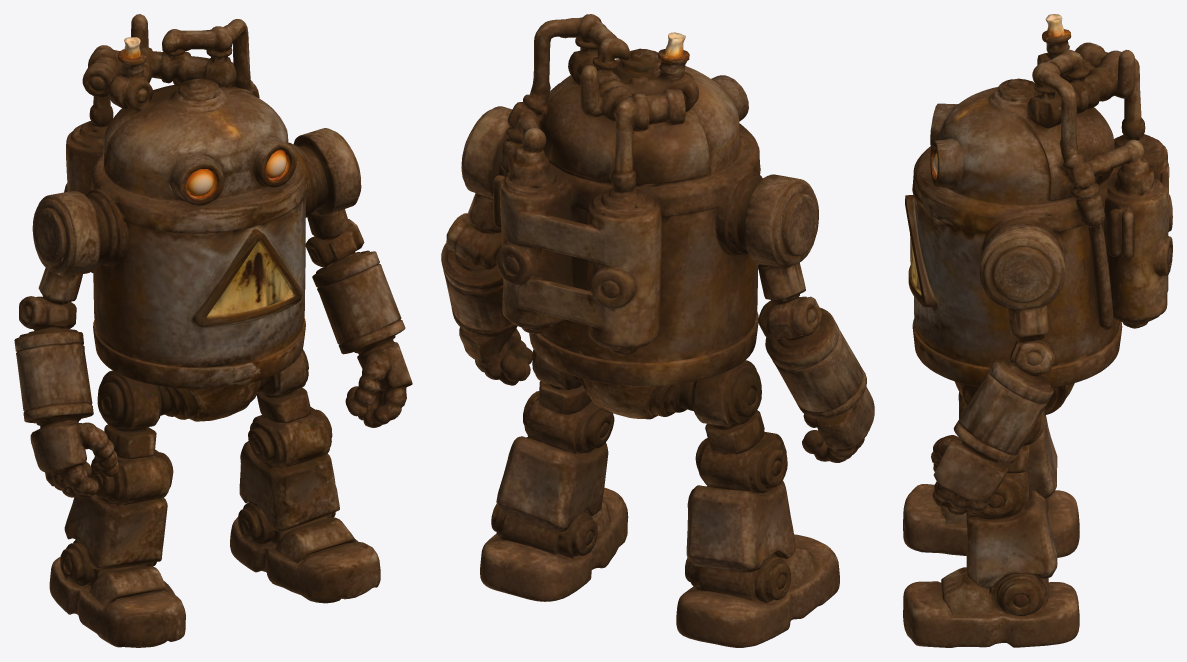
File: pixel_3393.glb
3 views of the same model, side by side, from view 1: azimuth 30°, elevation 25°; view 2: azimuth 150°, elevation 25°; view 3: azimuth 270°, elevation 25° (orthographic). The views are drawn at different scales.
Parts seen in each view (by area): view 1: material; view 2: material; view 3: material.
Part boxes in pixels (left/top/right/bottom): material: left=14, top=14, right=412, bottom=647; material: left=441, top=14, right=874, bottom=647; material: left=903, top=14, right=1172, bottom=647.
Size of the model in its own units: 0.7338 by 1.02 by 0.4572.
Materials: 1 (1 with a texture image).
